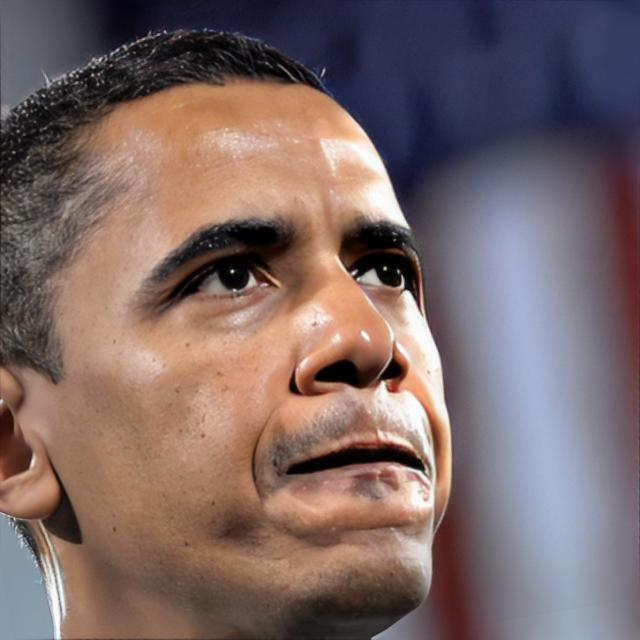anger: (58, 69, 453, 620)
